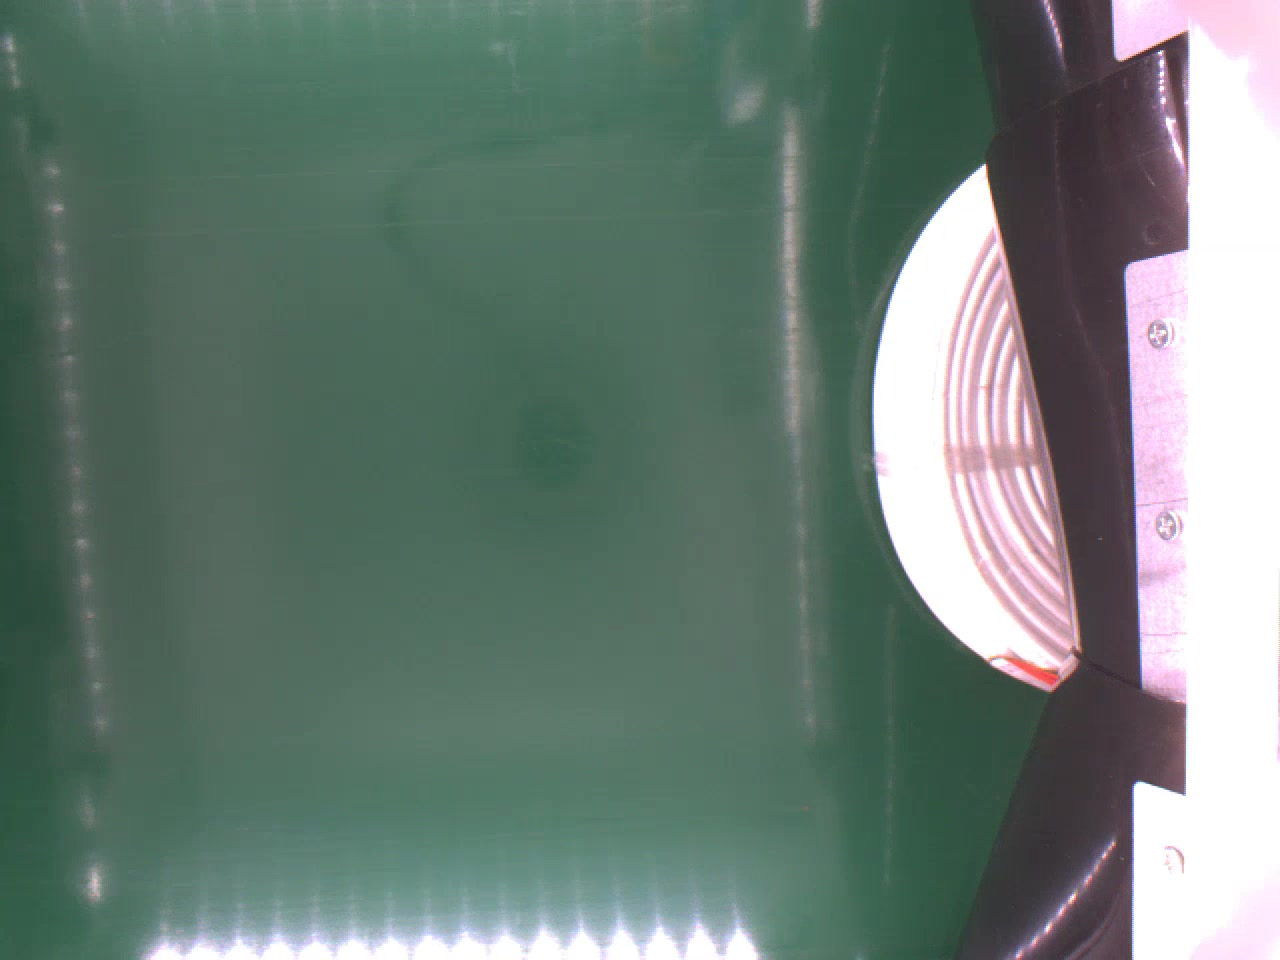white: (866, 159, 1074, 695)
